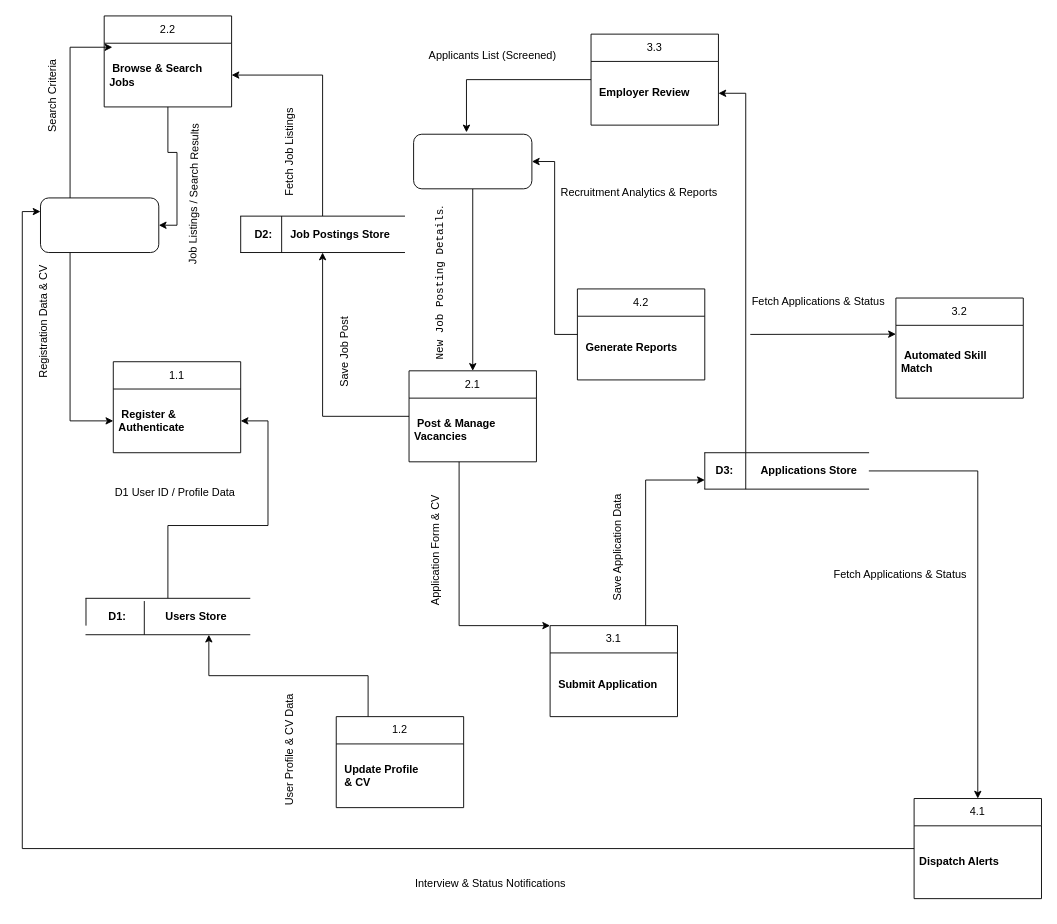
Image size: 1057x924. Some labels were removed from this diagram. Here are the shapes that lost their labels. From the top down, the centre of each, then its label:
the point at 472,161: EMPLOYER
the point at 99,225: JOB SEEKER
